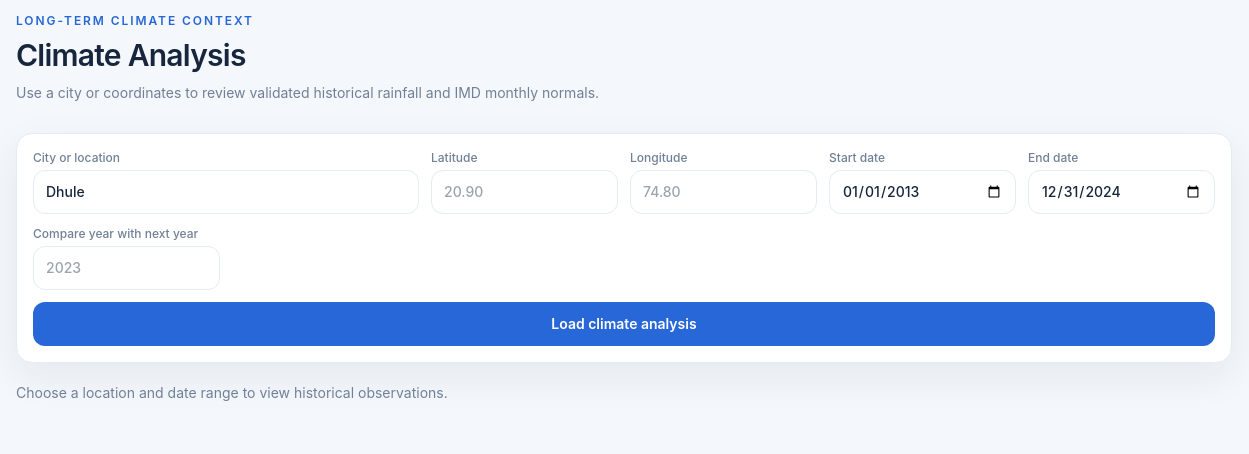
Test case: Climate Analysis page › shows loading state while requests are pending
Click the button "Load climate analysis".
click(624, 324)  # box [33,302,1215,346]
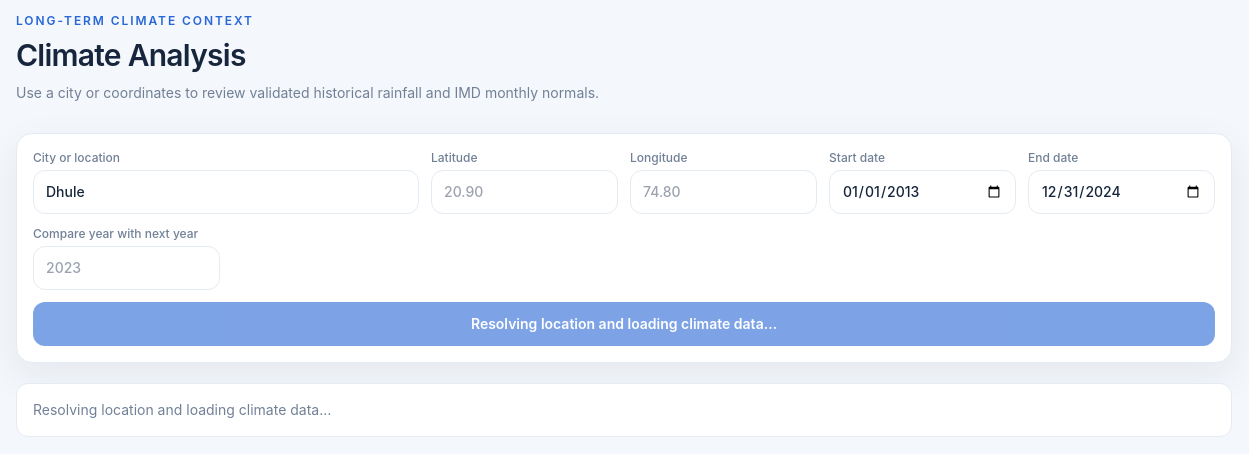
Result: the message shows "Resolving location and loading climate data" at [33,401,331,418]
